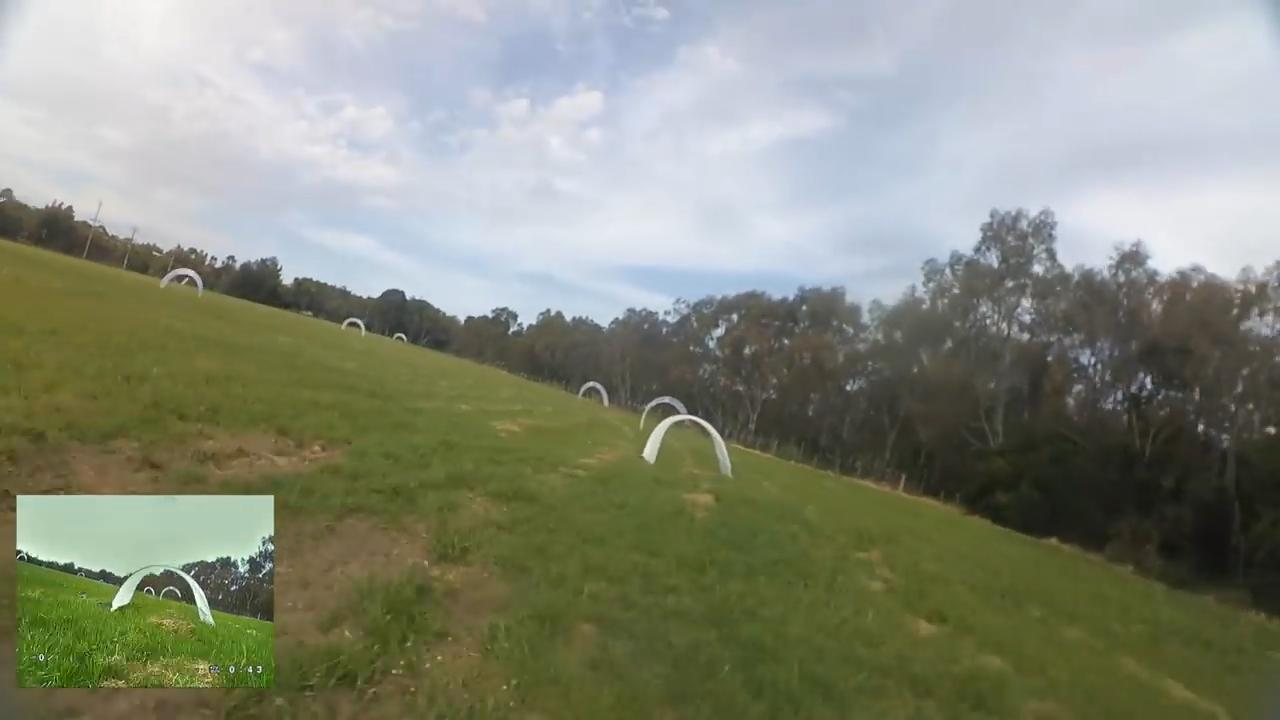gate: (644, 412, 735, 483), (159, 267, 208, 302), (577, 381, 610, 410)
